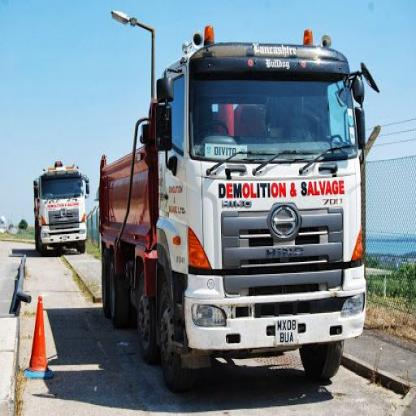dump_truck: (86, 6, 382, 392), (24, 147, 91, 264)
